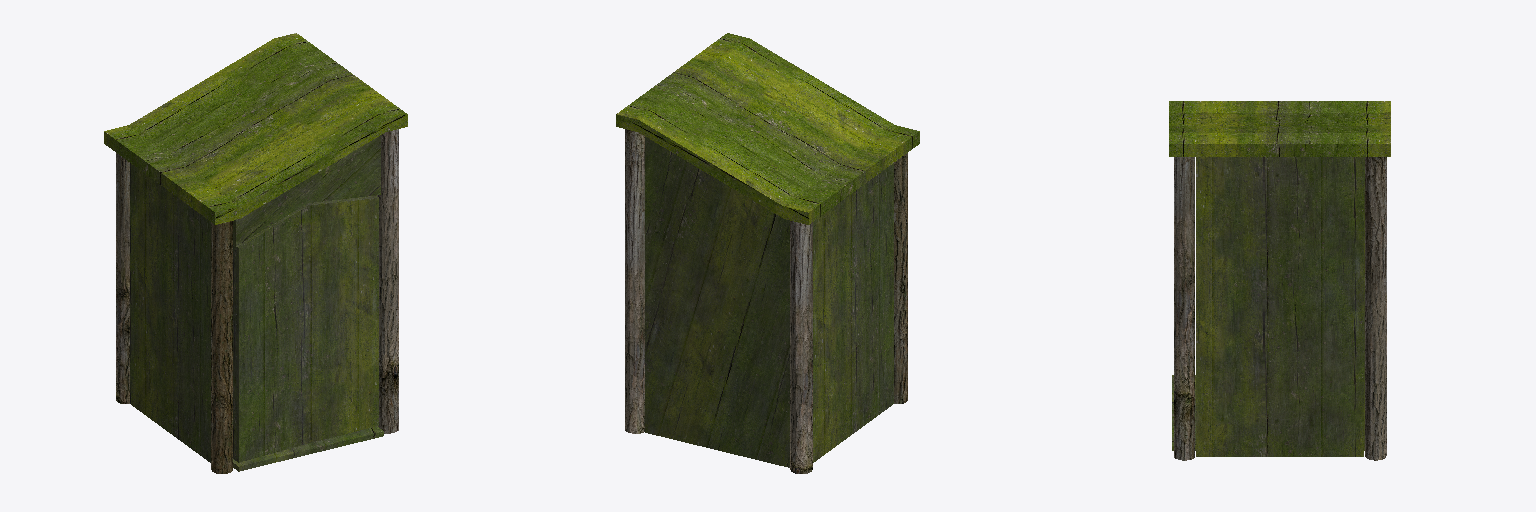
3 views of the same model, side by side, from view 1: azimuth 30°, elevation 25°; view 2: azimuth 150°, elevation 25°; view 3: azimuth 270°, elevation 25° (orthographic).
Parts seen in each view (by area): view 1: Baño_Cube; view 2: Baño_Cube; view 3: Baño_Cube.
Boxes of the visible parts, <box> form: Baño_Cube: <box>104,33,407,473</box>; Baño_Cube: <box>616,33,919,473</box>; Baño_Cube: <box>1169,101,1390,460</box>.
Bounding box in the file's own units: 7.93 × 12.49 × 7.93.
1 materials, 1 textured.